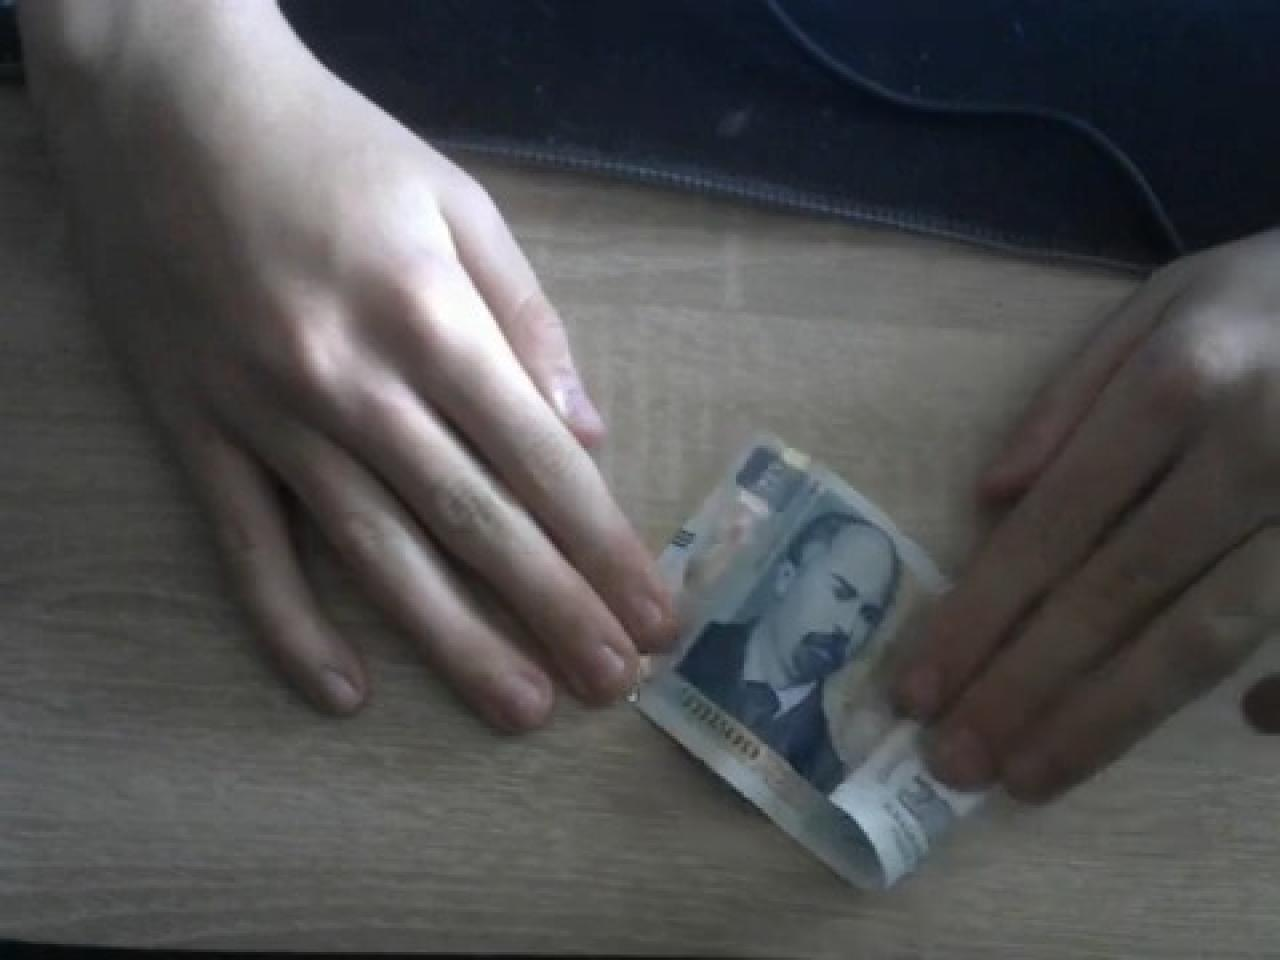20leva: (637, 440, 974, 893)
